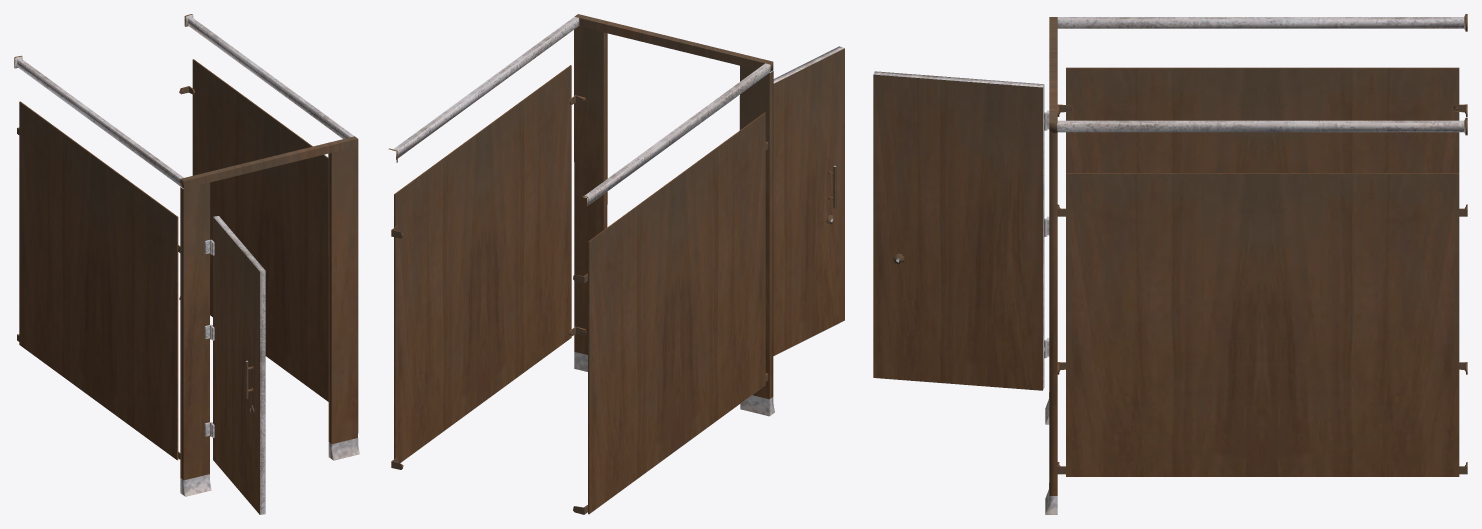
File: bathroom_stall_d.glb
3 renders of one model, left to right at view 1: azimuth 30°, elevation 25°; view 2: azimuth 150°, elevation 25°; view 3: azimuth 270°, elevation 25°, orthographic. The views are drawn at different scales.
Parts seen in each view (by area): view 1: bathroom_stall_d; view 2: bathroom_stall_d; view 3: bathroom_stall_d.
Boxes of the visible parts, <box> form: bathroom_stall_d: <box>14,14,359,514</box>; bathroom_stall_d: <box>388,14,844,514</box>; bathroom_stall_d: <box>873,14,1467,514</box>.
Size of the model in its own units: 1.53 by 2.6 by 3.55.
Materials: 1 (1 with a texture image).
